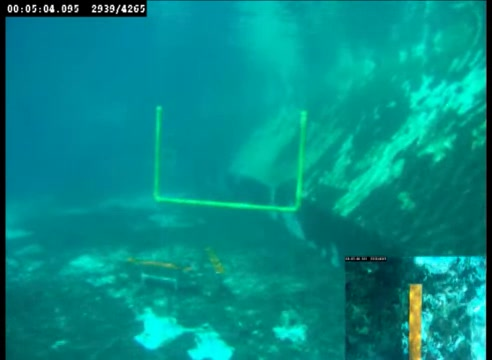channel: (144, 103, 307, 215)
